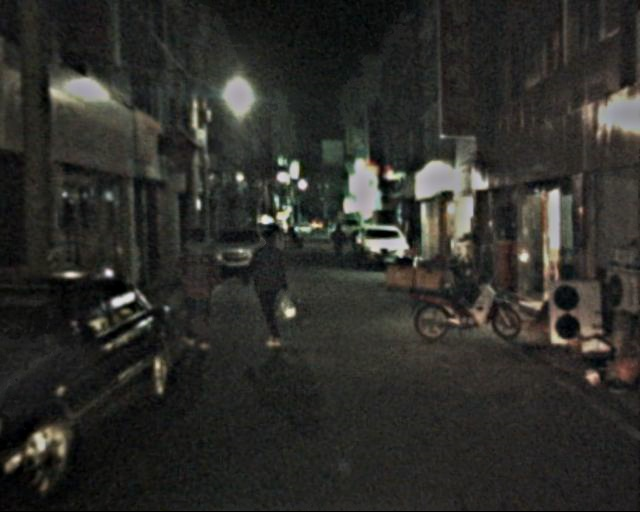person: (242, 226, 297, 347), (172, 226, 222, 348), (330, 220, 348, 263)
